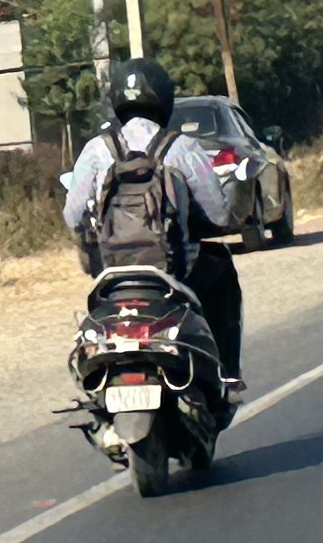BikeWithRider: (44, 44, 258, 505)
Helmet: (107, 49, 180, 124)
